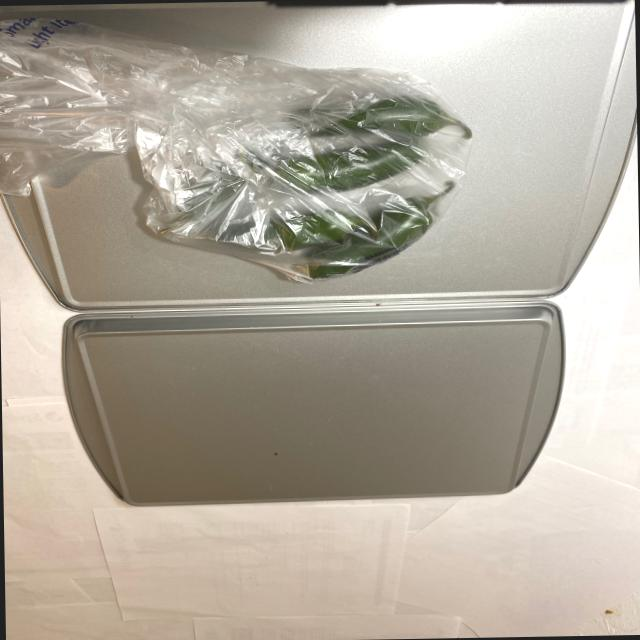chilli: (155, 74, 474, 288)
